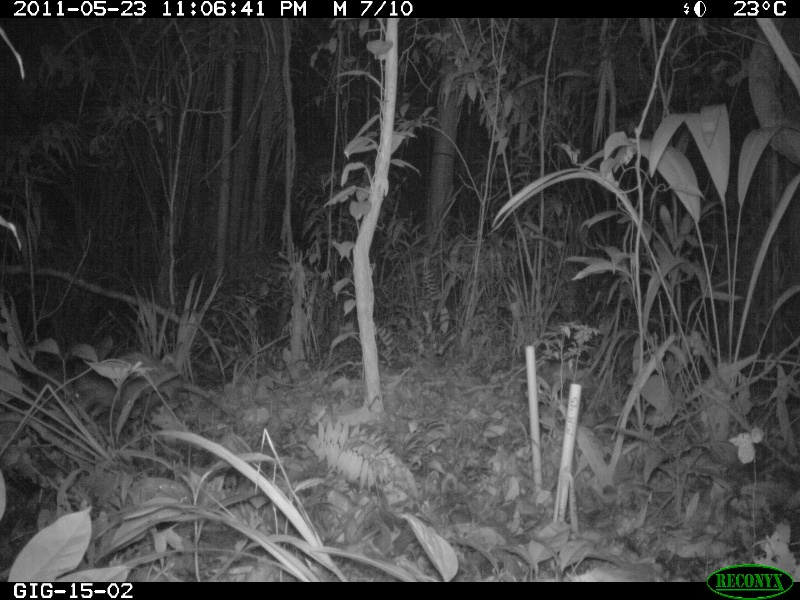opossum: (66, 364, 234, 423)
